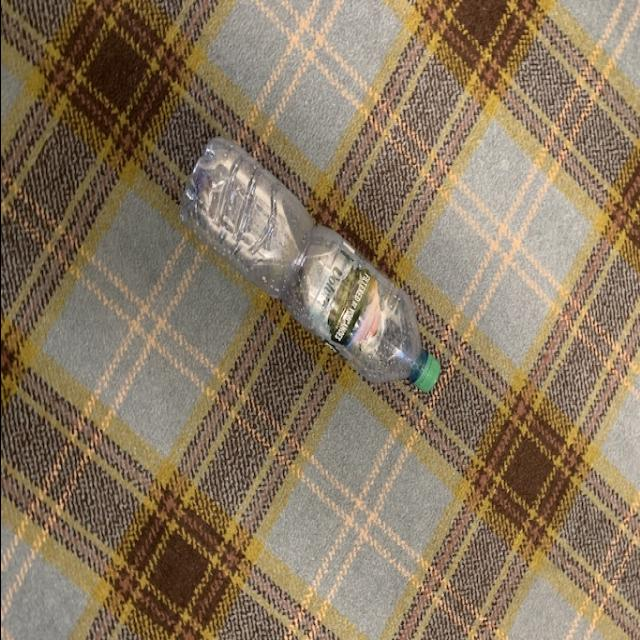litter: (175, 134, 442, 388)
